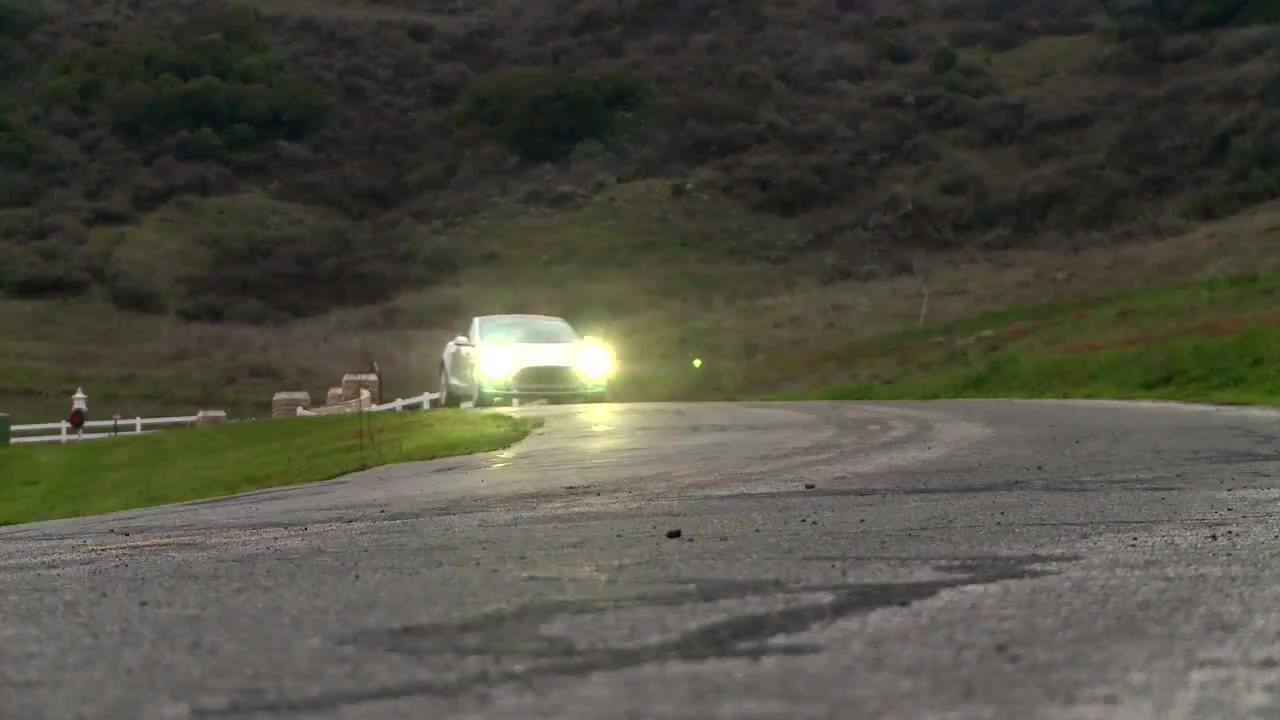car: (435, 313, 611, 405)
